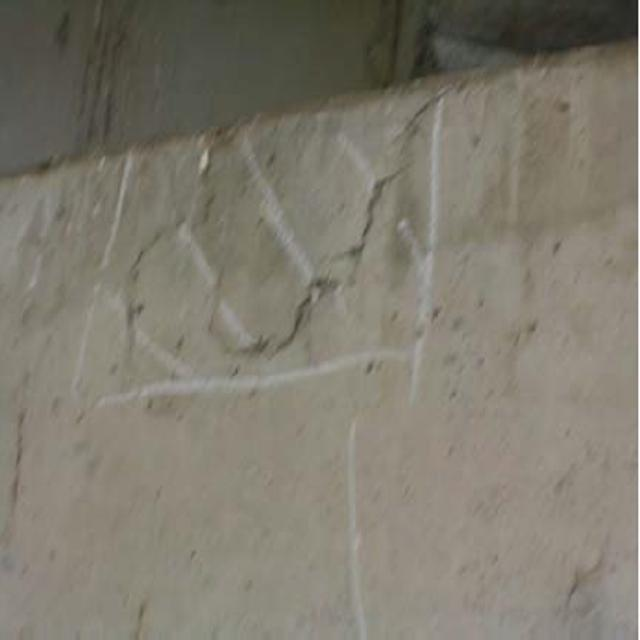crack: (99, 83, 460, 354)
